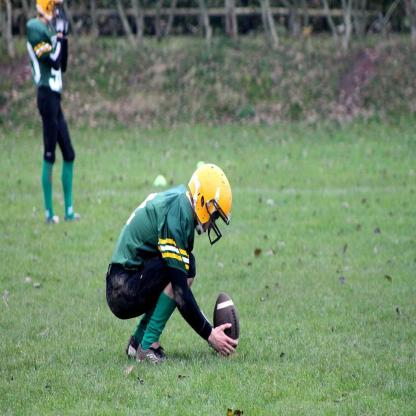Helmet: (186, 172, 234, 256), (36, 0, 61, 29)
